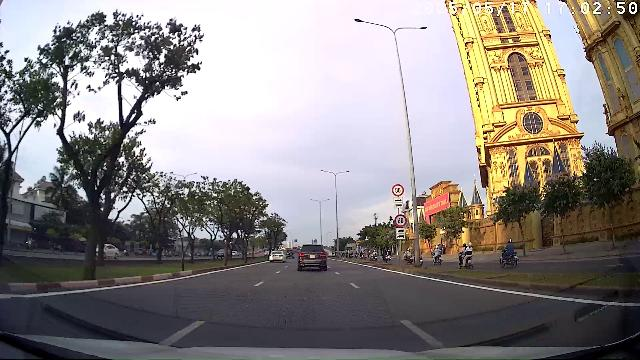127-toc-do-toi-da-60: (395, 215, 407, 227)
127-toc-do-toi-da-80: (392, 184, 404, 196)
